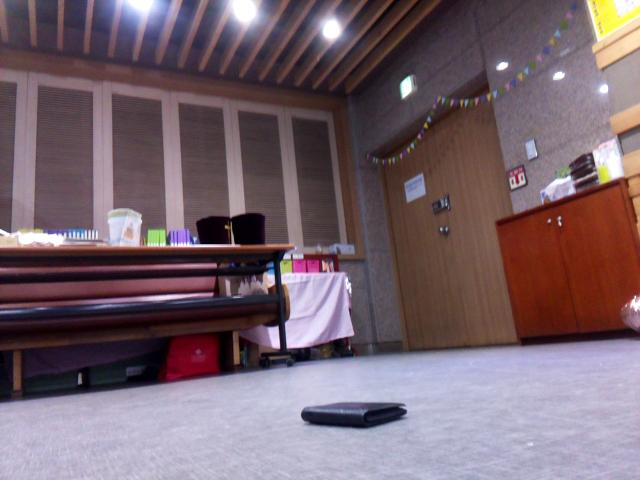wallet: (300, 397, 412, 428)
